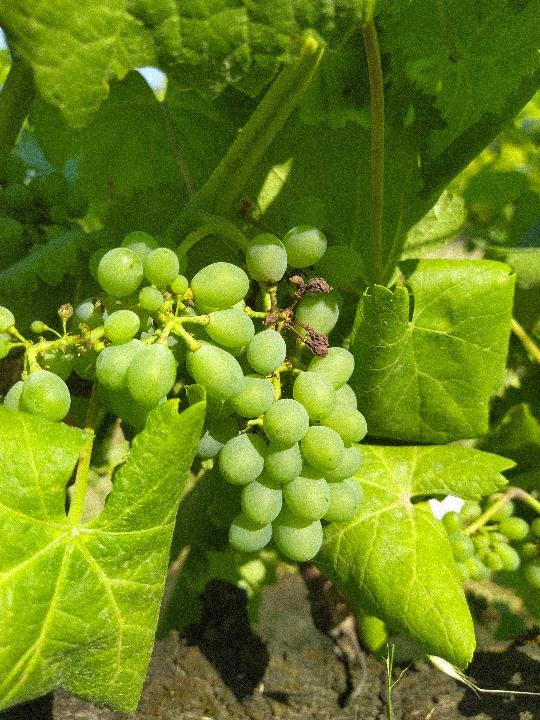grape: (2, 192, 370, 570)
